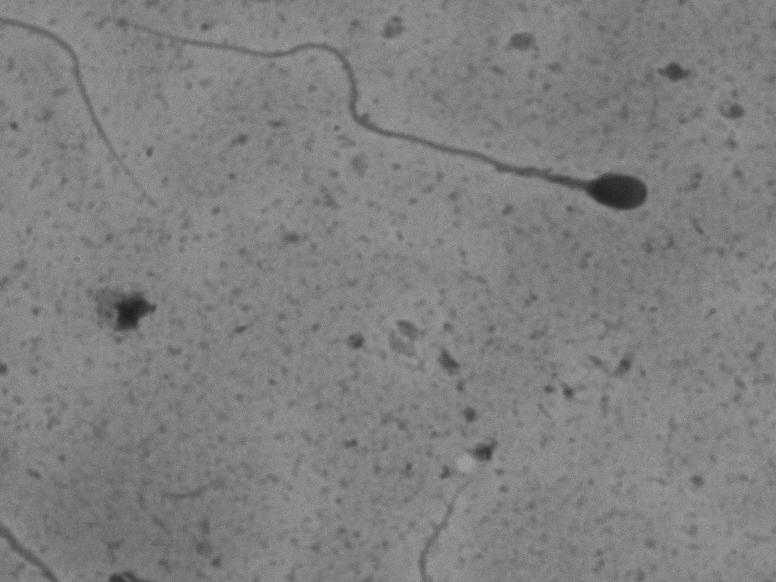Normal: (129, 12, 659, 225)
